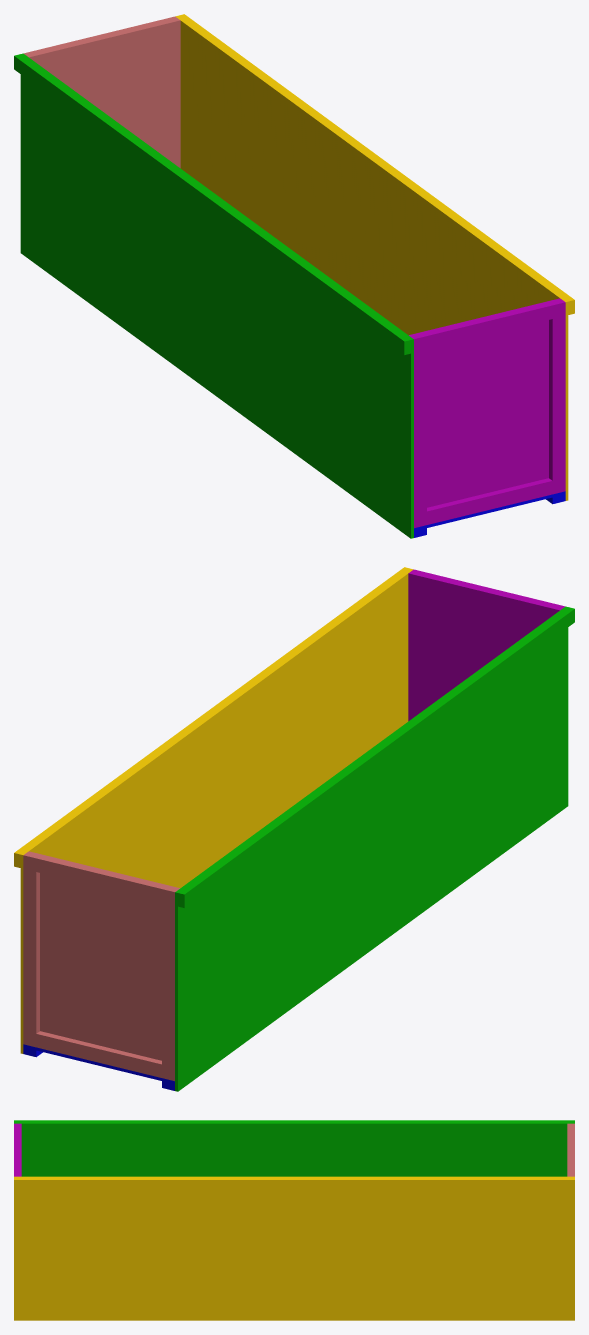
Rendered from result.glb.
3 views of the same model, one above another, from view 1: azimuth 30°, elevation 25°; view 2: azimuth 150°, elevation 25°; view 3: azimuth 270°, elevation 25° (orthographic). The views are drawn at different scales.
Parts seen in each view (by area): view 1: 35aeeef5-f170-48d8-8dd3-1b6704275bbf__Box_6, 9c892458-6bcf-4a72-a8be-08155bc999c1__undefined, 51d9d3eb-68eb-4177-a3e0-99d33ba15c97__Box_3, c0531c8d-08cb-480b-ae6a-64666265b999__undefined, d7d88a73-2038-4daf-a412-9204be3925f6__Box_7, 0fad2c5b-4f4a-4ecb-a231-8e5fea4f08dd__undefined, 8cc286d6-b0a3-4bcc-8ddc-3f2a0dee7cd8__undefined, ab305b4d-9a73-49c8-81eb-e620b2773988__Box_4, e38aad0d-4d51-424b-a1ae-5db1c3dc3c4c__undefined, 1ea444bb-58e2-4f0a-9dd9-3b9aba9d4e67__Box_5; view 2: 35aeeef5-f170-48d8-8dd3-1b6704275bbf__Box_6, 9c892458-6bcf-4a72-a8be-08155bc999c1__undefined, c0531c8d-08cb-480b-ae6a-64666265b999__undefined, 51d9d3eb-68eb-4177-a3e0-99d33ba15c97__Box_3, d7d88a73-2038-4daf-a412-9204be3925f6__Box_7, bad1d7af-0a33-4bb0-aa98-ed498e54a1a5__undefined, 8cc286d6-b0a3-4bcc-8ddc-3f2a0dee7cd8__undefined, ee6d7d59-f9f5-40cf-af8d-e28ae9ae923c__undefined, 197eefa2-c879-4171-91be-d9547b1a3601__undefined, ba274df1-49f3-4986-a904-0db6391e43ce__undefined; view 3: 9c892458-6bcf-4a72-a8be-08155bc999c1__undefined, 35aeeef5-f170-48d8-8dd3-1b6704275bbf__Box_6, 8cc286d6-b0a3-4bcc-8ddc-3f2a0dee7cd8__undefined, d7d88a73-2038-4daf-a412-9204be3925f6__Box_7.
Part boxes in pixels (<box>): 35aeeef5-f170-48d8-8dd3-1b6704275bbf__Box_6: <box>20,53,413,538</box>; 9c892458-6bcf-4a72-a8be-08155bc999c1__undefined: <box>175,16,568,500</box>; 51d9d3eb-68eb-4177-a3e0-99d33ba15c97__Box_3: <box>409,298,561,507</box>; c0531c8d-08cb-480b-ae6a-64666265b999__undefined: <box>27,19,180,168</box>; d7d88a73-2038-4daf-a412-9204be3925f6__Box_7: <box>14,54,410,354</box>; 0fad2c5b-4f4a-4ecb-a231-8e5fea4f08dd__undefined: <box>549,299,565,494</box>; 8cc286d6-b0a3-4bcc-8ddc-3f2a0dee7cd8__undefined: <box>178,14,574,314</box>; ab305b4d-9a73-49c8-81eb-e620b2773988__Box_4: <box>410,333,426,528</box>; e38aad0d-4d51-424b-a1ae-5db1c3dc3c4c__undefined: <box>423,302,552,349</box>; 1ea444bb-58e2-4f0a-9dd9-3b9aba9d4e67__Box_5: <box>427,478,552,524</box>; 35aeeef5-f170-48d8-8dd3-1b6704275bbf__Box_6: <box>175,606,568,1091</box>; 9c892458-6bcf-4a72-a8be-08155bc999c1__undefined: <box>20,569,413,1053</box>; c0531c8d-08cb-480b-ae6a-64666265b999__undefined: <box>27,851,179,1060</box>; 51d9d3eb-68eb-4177-a3e0-99d33ba15c97__Box_3: <box>408,572,561,721</box>; d7d88a73-2038-4daf-a412-9204be3925f6__Box_7: <box>178,607,574,907</box>; bad1d7af-0a33-4bb0-aa98-ed498e54a1a5__undefined: <box>23,852,39,1047</box>; 8cc286d6-b0a3-4bcc-8ddc-3f2a0dee7cd8__undefined: <box>14,567,410,867</box>; ee6d7d59-f9f5-40cf-af8d-e28ae9ae923c__undefined: <box>162,886,178,1081</box>; 197eefa2-c879-4171-91be-d9547b1a3601__undefined: <box>36,855,165,902</box>; ba274df1-49f3-4986-a904-0db6391e43ce__undefined: <box>36,1031,161,1077</box>; 9c892458-6bcf-4a72-a8be-08155bc999c1__undefined: <box>14,1176,574,1320</box>; 35aeeef5-f170-48d8-8dd3-1b6704275bbf__Box_6: <box>14,1122,574,1176</box>; 8cc286d6-b0a3-4bcc-8ddc-3f2a0dee7cd8__undefined: <box>14,1177,574,1189</box>; d7d88a73-2038-4daf-a412-9204be3925f6__Box_7: <box>14,1120,574,1122</box>.
Size of the model in its own units: 472 by 526 by 1872.
